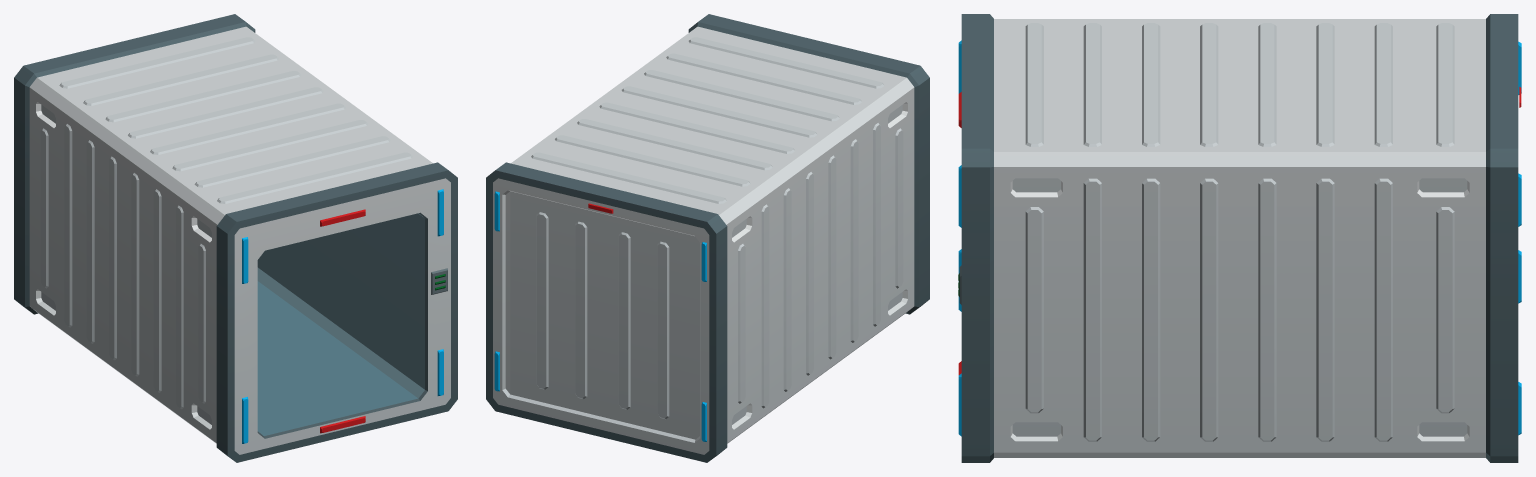
Rendered from Container_type_B_001.fbx.
3 views of the same model, side by side, from view 1: azimuth 30°, elevation 25°; view 2: azimuth 150°, elevation 25°; view 3: azimuth 270°, elevation 25° (orthographic). The views are drawn at different scales.
Visible parts, largest first — view 1: Container_type_B_001; view 2: Container_type_B_001; view 3: Container_type_B_001.
Part boxes in pixels (x1=…): Container_type_B_001: x1=14, y1=14, x2=457, y2=462; Container_type_B_001: x1=486, y1=14, x2=929, y2=462; Container_type_B_001: x1=958, y1=14, x2=1521, y2=462.
Bounding box in the file's own units: 246 × 400 × 246.
